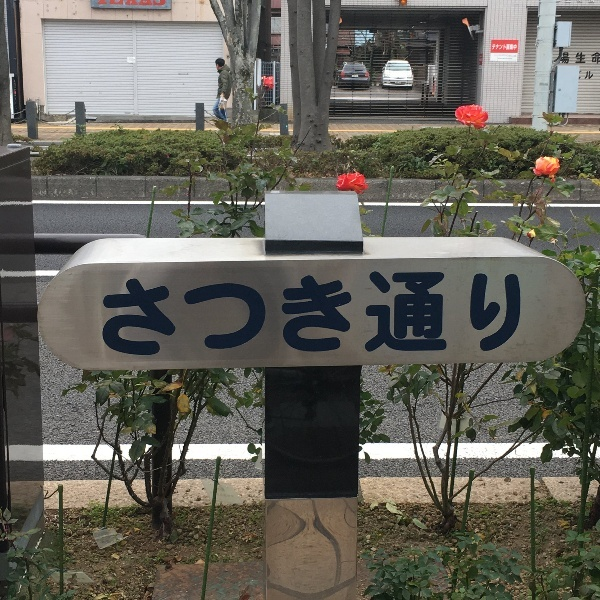text: (113, 270, 128, 360), (129, 270, 144, 360), (145, 270, 160, 360), (161, 270, 176, 360), (177, 270, 192, 360), (193, 270, 208, 360), (209, 270, 224, 360), (225, 270, 240, 360), (241, 270, 256, 360), (257, 270, 272, 360), (273, 270, 288, 360), (289, 270, 304, 360), (305, 270, 320, 360), (321, 270, 336, 360), (337, 270, 352, 360), (353, 270, 368, 360), (369, 270, 384, 360), (385, 270, 400, 360), (401, 270, 416, 360), (417, 270, 432, 360), (433, 270, 448, 360), (449, 270, 464, 360), (465, 270, 480, 360), (481, 270, 496, 360), (497, 270, 512, 360), (513, 270, 522, 360), (104, 270, 112, 360), (577, 52, 592, 64), (564, 52, 576, 64), (497, 44, 512, 51), (497, 55, 512, 61), (593, 52, 600, 64), (113, 1, 128, 6), (129, 1, 144, 6), (145, 1, 160, 6), (98, 1, 112, 6), (586, 71, 592, 79), (577, 1, 592, 4), (565, 1, 576, 4), (492, 44, 496, 51), (513, 44, 517, 51), (161, 1, 166, 6), (513, 55, 517, 61), (494, 55, 496, 61), (593, 71, 594, 79), (479, 58, 480, 62), (481, 58, 482, 62), (593, 1, 594, 4), (479, 56, 480, 58), (481, 56, 482, 58)
